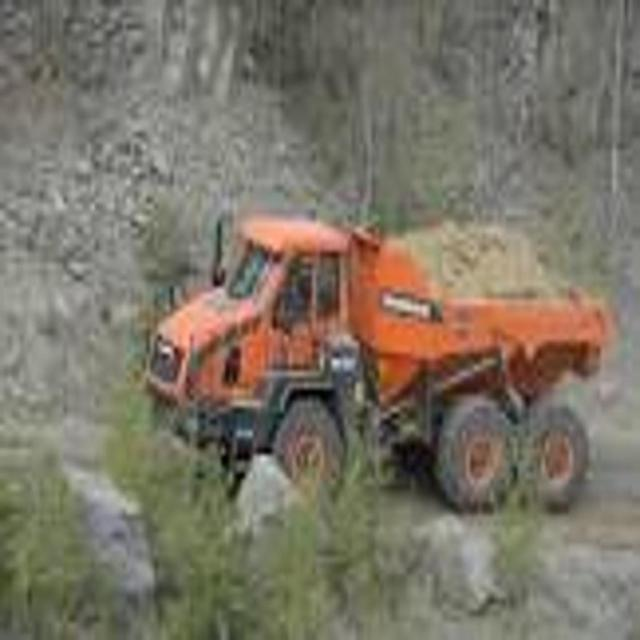dump_truck: (147, 200, 614, 517)
